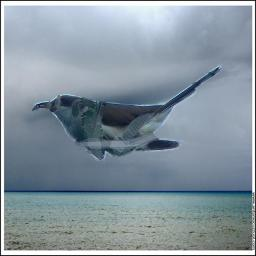Cuckoo: (32, 64, 227, 161)
